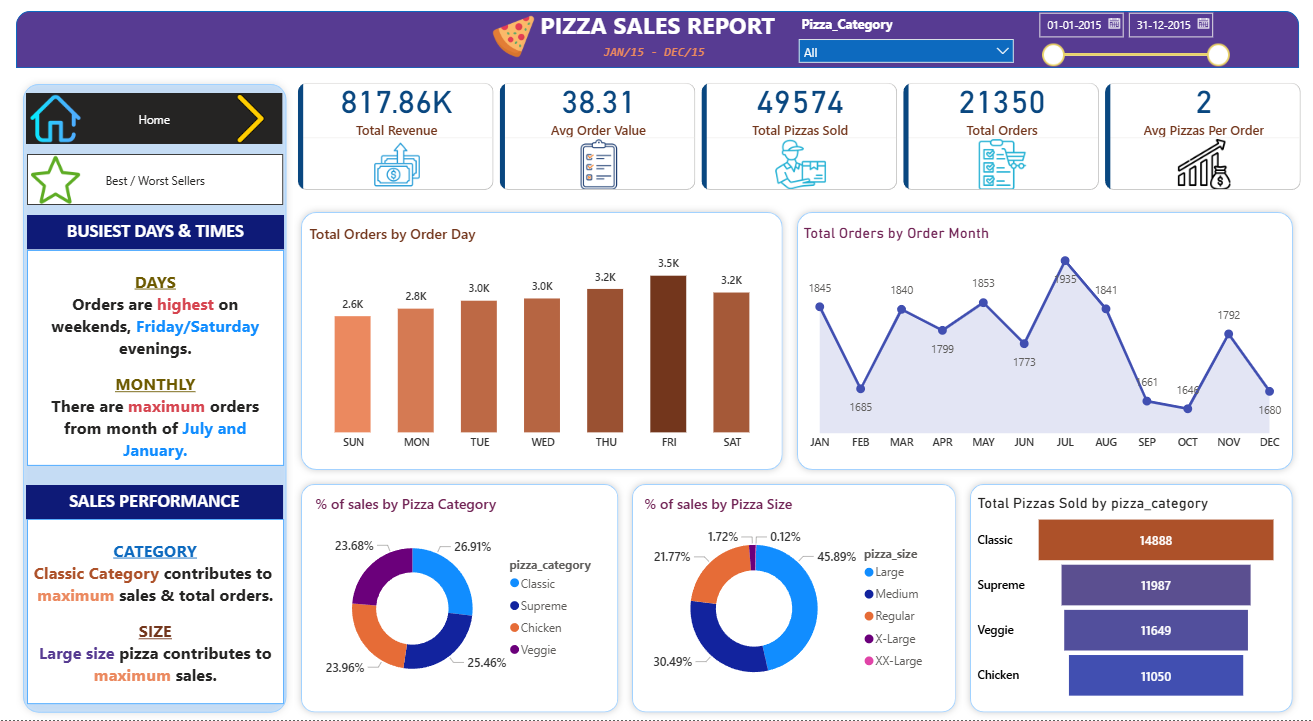

This screenshot's page, from the dashboard's own definition file:
{"tool":"powerbi","page":{"name":"Home","canvas":[1500,820],"ordinal":0},"visuals":[{"type":"cardVisual","fields":{"Data":["pizza_sales.Total Revenue","pizza_sales.Avg Order Value","pizza_sales.Total Pizzas Sold","pizza_sales.Total Orders","pizza_sales.Avg Pizzas Per Order"]},"box":[322.5,77.5,1177.5,156.2],"z":0},{"type":"shape","box":[18.8,12.5,1462.5,65],"z":1000},{"type":"textbox","box":[610,5,280,47.5],"z":2000},{"type":"textbox","box":[682.5,45,133.8,32.5],"z":3000},{"type":"image","box":[552.5,17.5,65,48.8],"z":4000},{"type":"shape","box":[335,233.8,565,310],"z":5000},{"type":"columnChart","fields":{"Category":["pizza_sales.Order Day"],"Y":["pizza_sales.Total Orders"]},"box":[347.5,255,542.5,267.5],"z":6000},{"type":"shape","box":[900,233.8,581.2,310],"z":7000},{"type":"areaChart","fields":{"Category":["pizza_sales.Order Month"],"Y":["pizza_sales.Total Orders"]},"box":[911.2,255,560,267.5],"z":8000},{"type":"shape","box":[18.8,87.5,316.2,732.5],"z":9000},{"type":"shape","box":[335,543.8,377.5,276.2],"z":10000},{"type":"shape","box":[1097.5,543.8,383.8,276.2],"z":11000},{"type":"shape","box":[712.5,543.8,385,276.2],"z":12000},{"type":"donutChart","title":"% of sales by Pizza Category","fields":{"Category":["pizza_sales.pizza_category"],"Y":["pizza_sales.Total Revenue"]},"box":[355,562.5,340,240],"z":13000},{"type":"textbox","box":[31.2,245,292.5,38.8],"z":14000},{"type":"donutChart","title":"% of sales by Pizza Size","fields":{"Y":["pizza_sales.Total Revenue"],"Category":["pizza_sales.pizza_size"]},"box":[730,562.5,340,240],"z":15000},{"type":"textbox","box":[31.2,285,292.5,246.2],"z":16000},{"type":"funnel","fields":{"Category":["pizza_sales.pizza_category"],"Y":["pizza_sales.Total Pizzas Sold"]},"box":[1108.8,562.5,352.5,240],"z":17000},{"type":"textbox","box":[30,552.5,292.5,38.8],"z":18000},{"type":"textbox","box":[31.2,591.2,292.5,211.2],"z":19000},{"type":"slicer","fields":{"Values":["pizza_sales.pizza_category"]},"box":[900,12.5,265,63.8],"z":20000},{"type":"slicer","fields":{"Values":["pizza_sales.order_date"]},"box":[1171.2,5,237.5,77.5],"z":21000},{"type":"pageNavigator","box":[30,106.2,292.5,58.8],"z":22000},{"type":"pageNavigator","box":[31.2,175,292.5,58.8],"z":23000},{"type":"image","box":[250,107.5,72.5,56.2],"z":24000},{"type":"image","box":[31.2,107.5,65,56.2],"z":25000},{"type":"image","box":[35,175,56.2,58.8],"z":26000}]}

Visuals, with their boxes in screenshot pixels (x1, y1, x2, y2), scaled from the page's 1500x820 canvas onto the 1313x721 screenshot:
cardVisual - pizza_sales.Total Revenue x pizza_sales.Avg Order Value: select_region(282, 68, 1312, 205)
shape: select_region(16, 11, 1297, 68)
textbox: select_region(534, 4, 779, 46)
textbox: select_region(597, 40, 715, 68)
image: select_region(484, 15, 541, 58)
shape: select_region(293, 206, 788, 478)
columnChart - pizza_sales.Order Day x pizza_sales.Total Orders: select_region(304, 224, 779, 459)
shape: select_region(788, 206, 1297, 478)
areaChart - pizza_sales.Order Month x pizza_sales.Total Orders: select_region(798, 224, 1288, 459)
shape: select_region(16, 77, 293, 720)
shape: select_region(293, 478, 624, 720)
shape: select_region(961, 478, 1297, 720)
shape: select_region(624, 478, 961, 720)
"% of sales by Pizza Category" donutChart: select_region(311, 495, 608, 706)
textbox: select_region(27, 215, 283, 250)
"% of sales by Pizza Size" donutChart: select_region(639, 495, 937, 706)
textbox: select_region(27, 251, 283, 467)
funnel - pizza_sales.pizza_category x pizza_sales.Total Pizzas Sold: select_region(971, 495, 1279, 706)
textbox: select_region(26, 486, 282, 520)
textbox: select_region(27, 520, 283, 706)
slicer - pizza_sales.pizza_category: select_region(788, 11, 1020, 67)
slicer - pizza_sales.order_date: select_region(1025, 4, 1233, 73)
pageNavigator: select_region(26, 93, 282, 145)
pageNavigator: select_region(27, 154, 283, 206)
image: select_region(219, 95, 282, 144)
image: select_region(27, 95, 84, 144)
image: select_region(31, 154, 80, 206)
